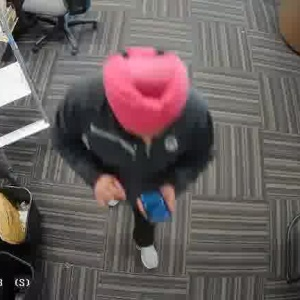person: (67, 51, 215, 258)
